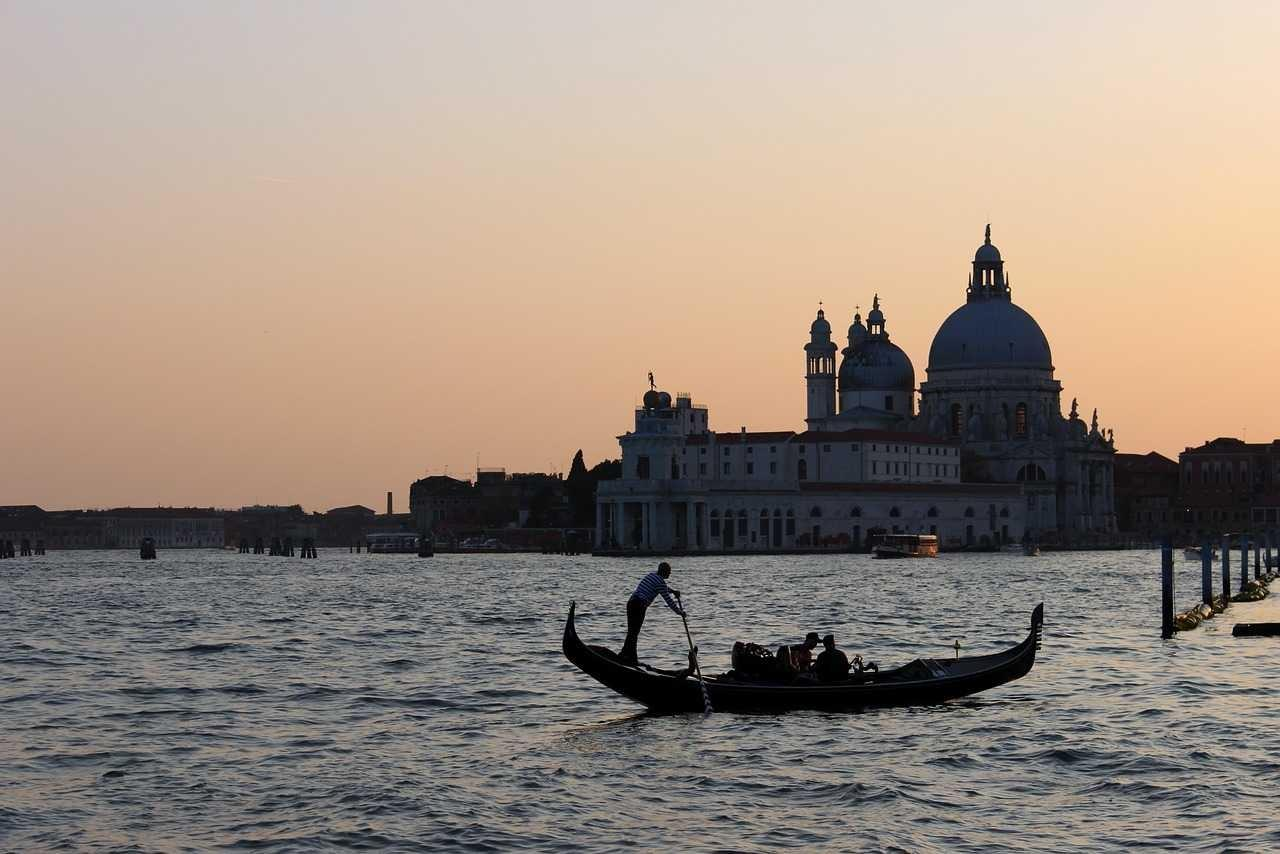kayak: (559, 601, 1046, 713), (870, 530, 938, 558), (365, 532, 425, 554), (1232, 621, 1280, 635), (139, 532, 158, 559)
